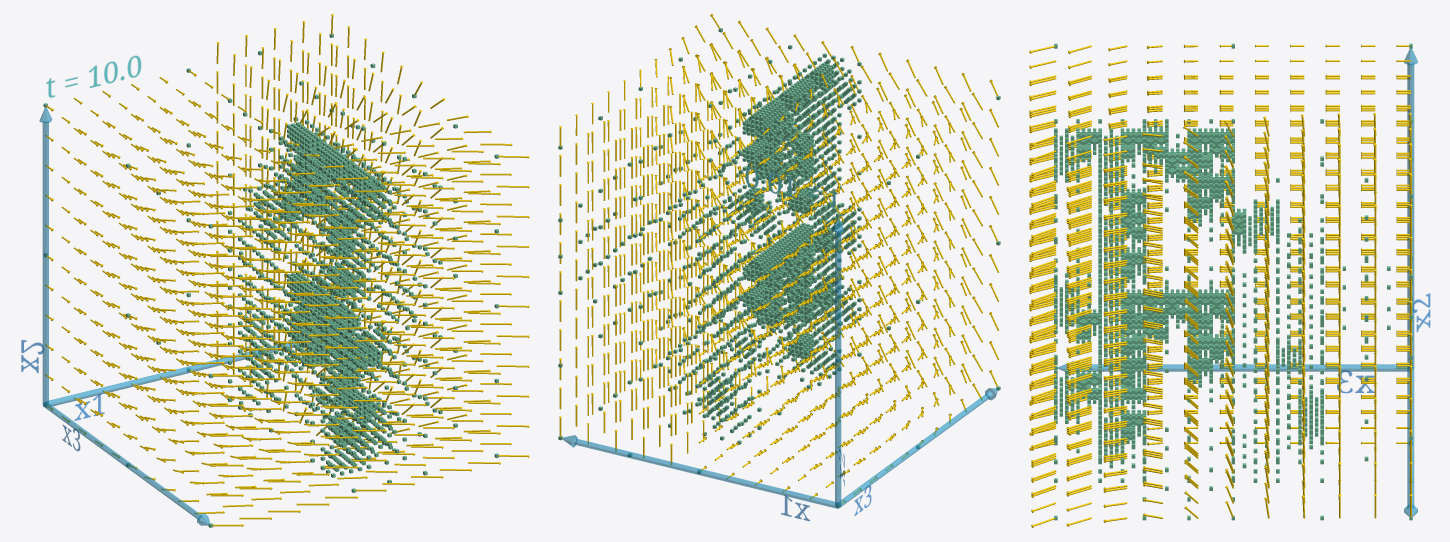
Rendered from ssa-v6.glb.
The picture shows the model from 3 angles, left to right: view 1: azimuth 30°, elevation 25°; view 2: azimuth 150°, elevation 25°; view 3: azimuth 270°, elevation 25°; orthographic projection. The views are drawn at different scales.
Visible parts, largest first — view 1: y axis, x axis, z axis, t = 10.0; view 2: y axis, x axis, z axis, t = 10.0; view 3: y axis, z axis, x axis.
Part boxes in pixels (x1,y1,x2,y2): y axis: (39, 107, 52, 405); x axis: (46, 340, 299, 407); z axis: (43, 402, 209, 525); t = 10.0: (46, 55, 141, 97); y axis: (832, 217, 844, 506); x axis: (561, 435, 837, 508); z axis: (838, 388, 997, 508); t = 10.0: (745, 167, 837, 207); y axis: (1404, 48, 1417, 368); z axis: (1057, 361, 1409, 374); x axis: (1404, 365, 1417, 516).
Size of the model in its own units: 1.15 by 1.2 by 1.15.
7 materials, 4 textured.
